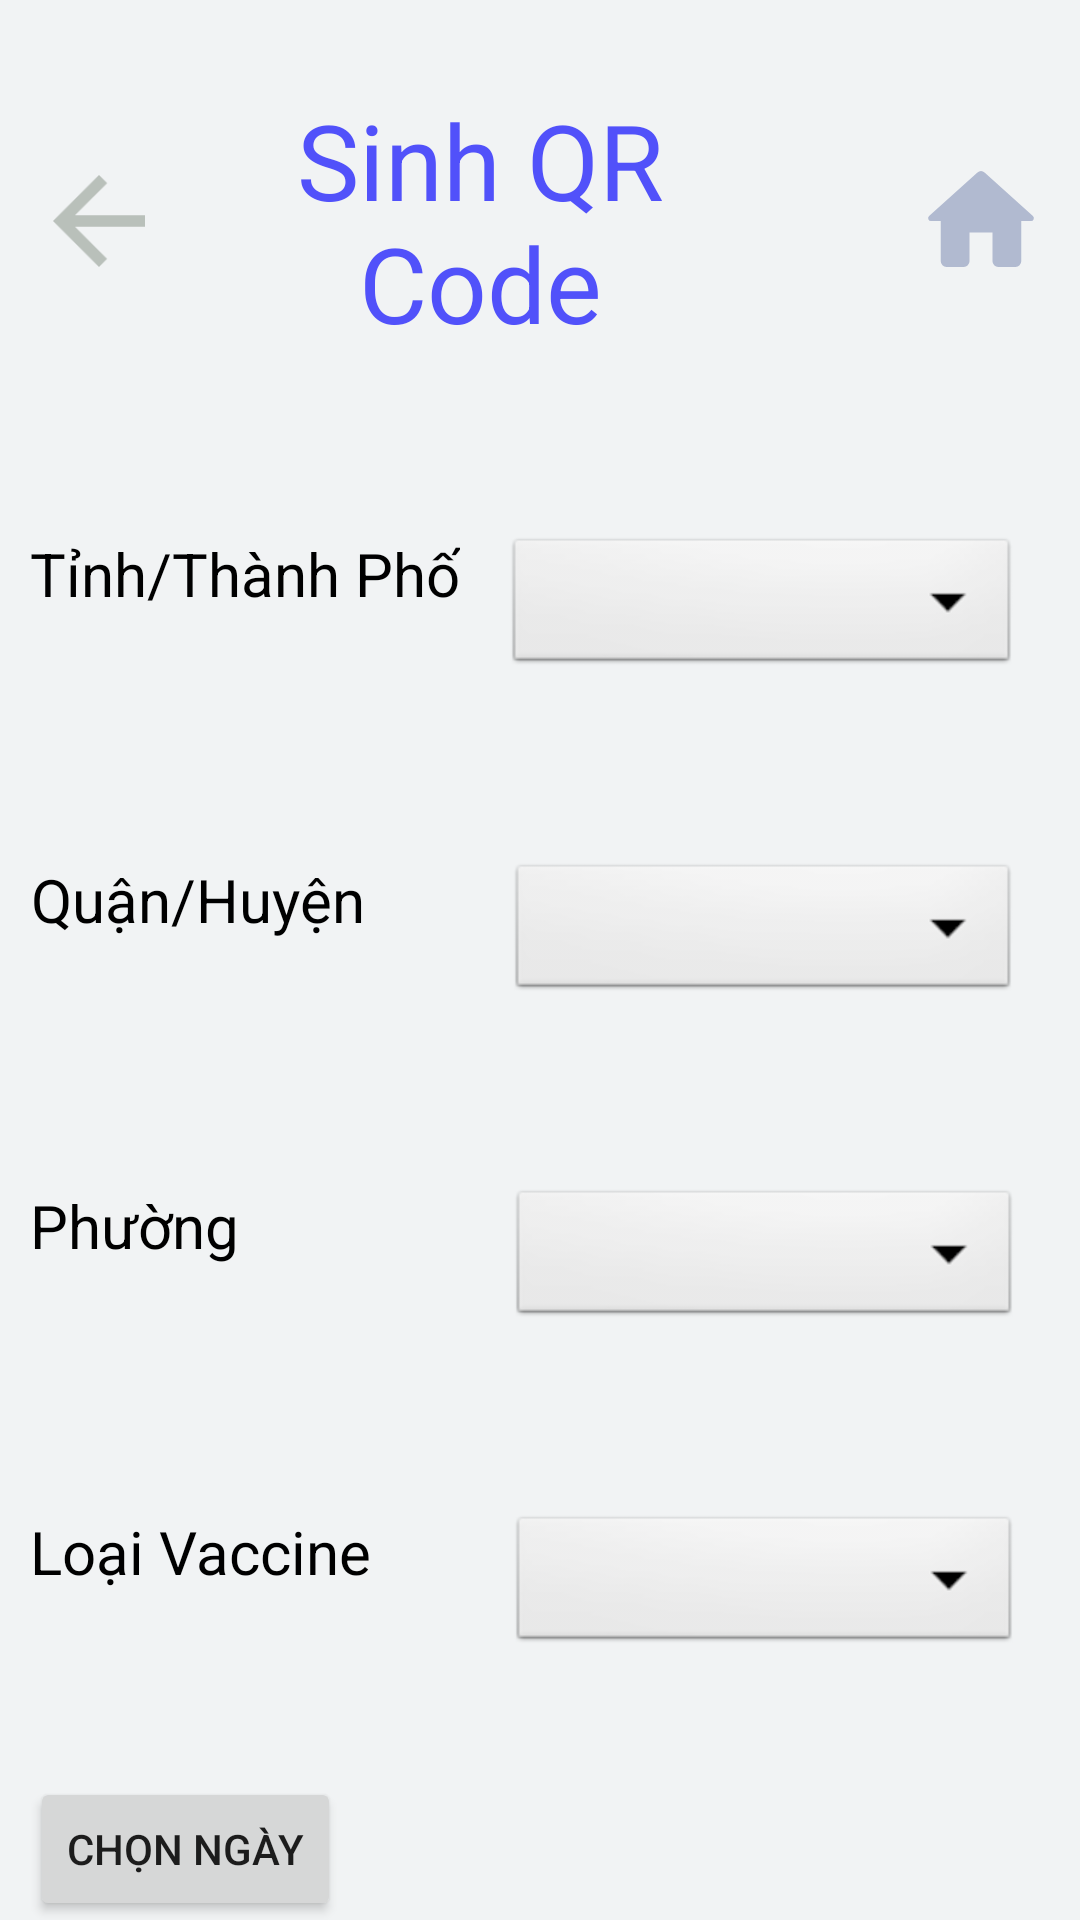

Locate icon controls on the screen. Image size 1080 × 1920, boxes as {"x1": x1, "y1": y1, "x2": x2, "y2": y2}.
back: {"x1": 53, "y1": 175, "x2": 145, "y2": 267}
home: {"x1": 928, "y1": 171, "x2": 1034, "y2": 267}
